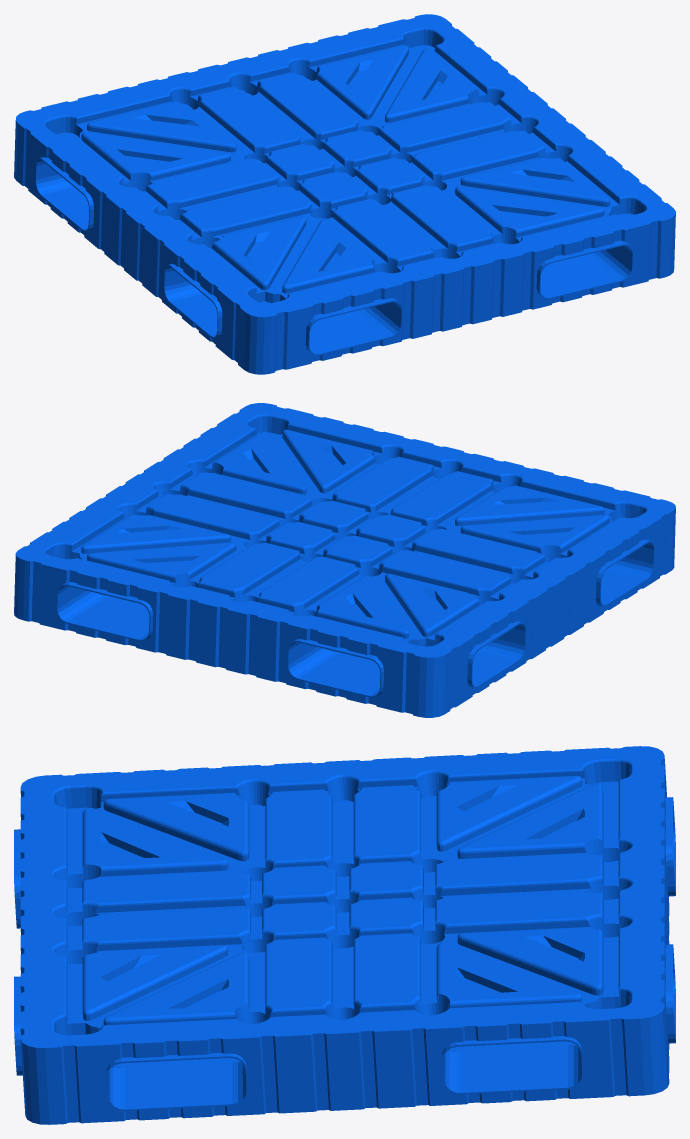
File: pallet_double_side.glb
3 views of the same model, one above another, from view 1: azimuth 30°, elevation 25°; view 2: azimuth 150°, elevation 25°; view 3: azimuth 270°, elevation 25° (orthographic). The views are drawn at different scales.
Parts seen in each view (by area): view 1: Cube.100; view 2: Cube.100; view 3: Cube.100.
Part boxes in pixels (x1,y1,x2,y2): Cube.100: [14, 14, 675, 374]; Cube.100: [14, 403, 675, 717]; Cube.100: [14, 746, 675, 1124].
Size of the model in its own units: 2.35 by 0.4276 by 2.36.
